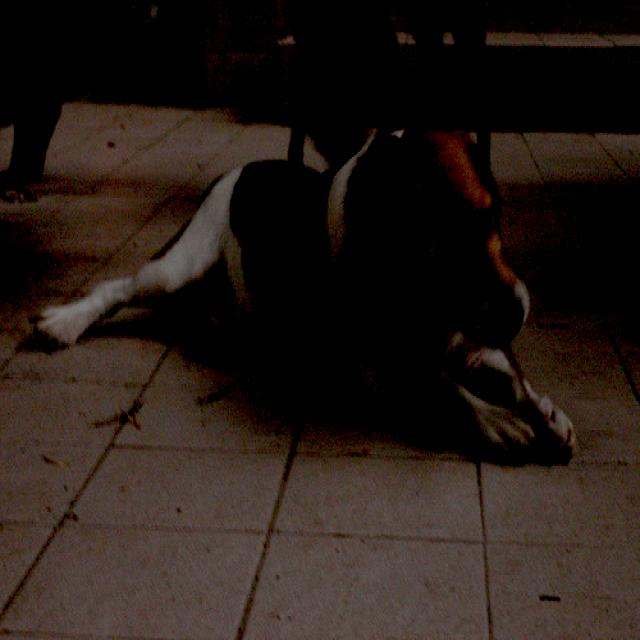Dog: (94, 101, 594, 544)
